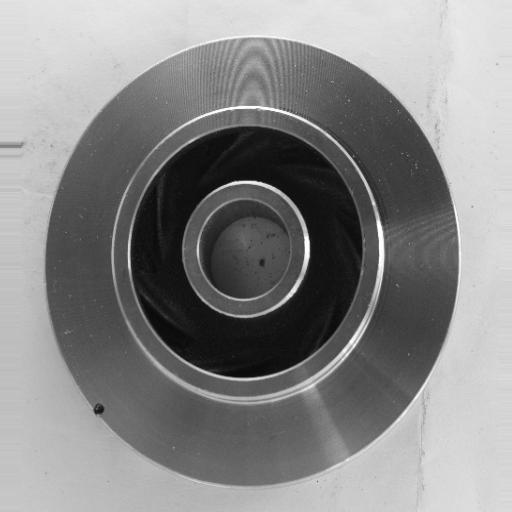pit: (83, 398, 113, 420)
unpolished_casting: (44, 36, 458, 488)
